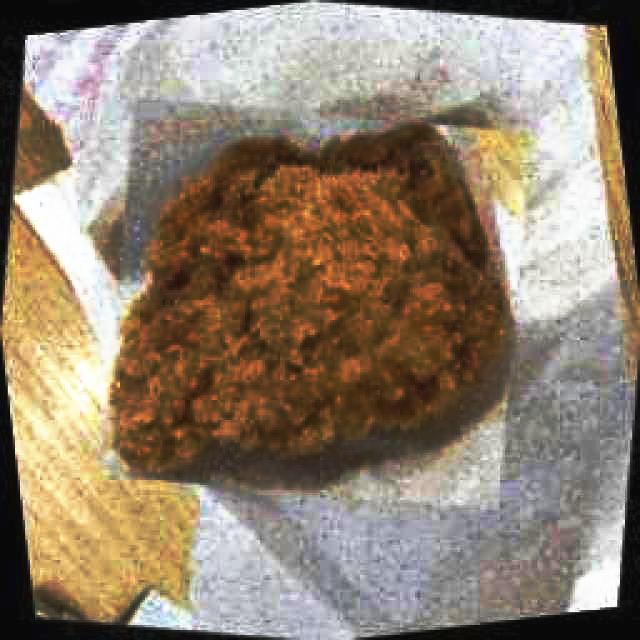fried_chicken: (109, 118, 512, 481)
